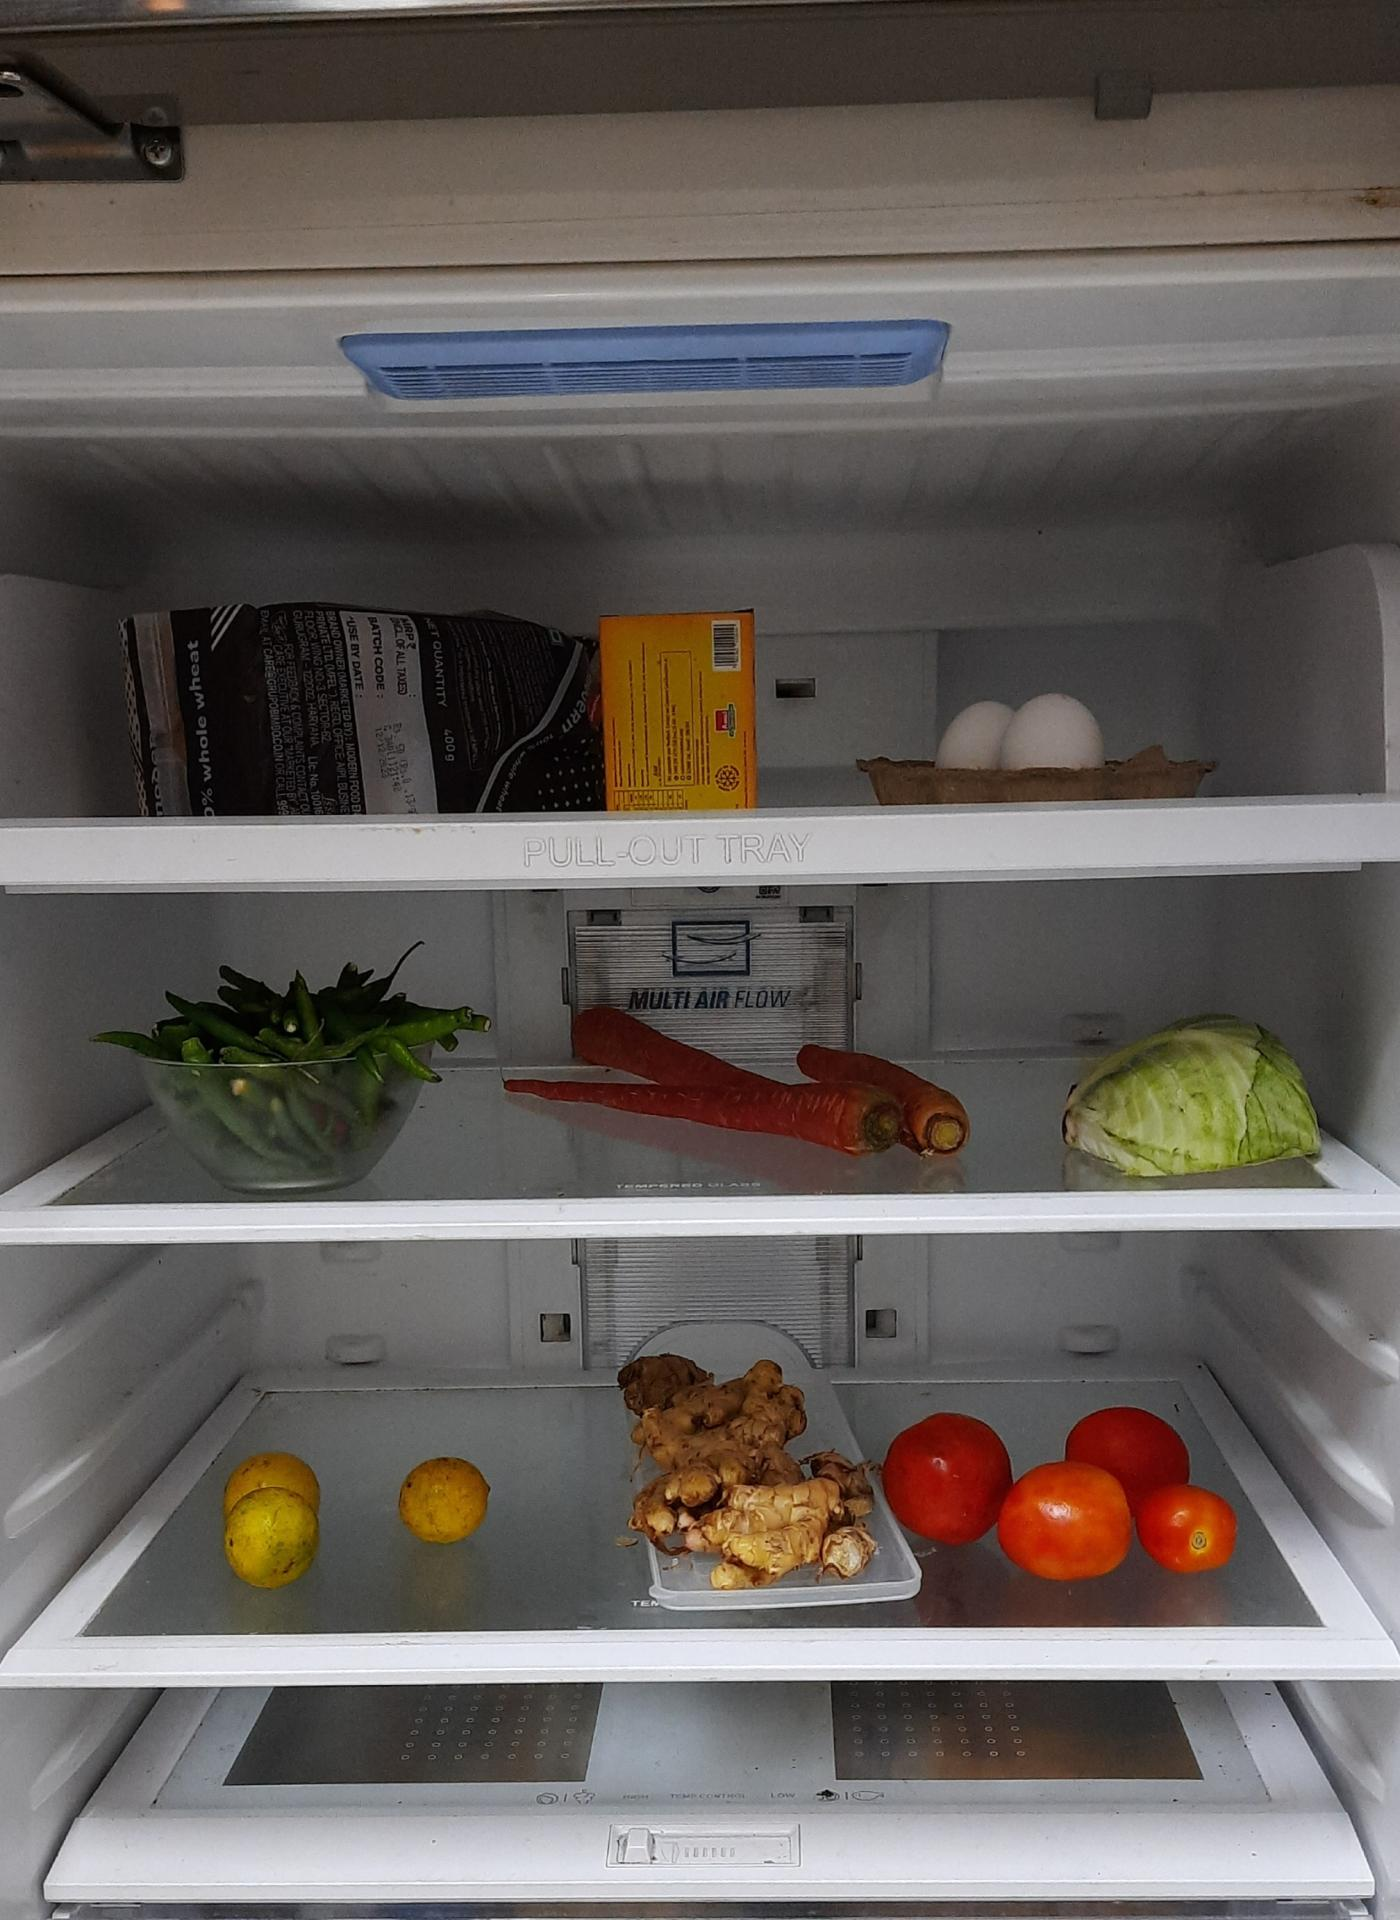bread: (112, 614, 757, 827)
cabbage: (1060, 1020, 1325, 1175)
carrots: (522, 1008, 972, 1158)
chillies: (101, 961, 501, 1167)
egg: (939, 689, 1106, 783)
ginger: (632, 1337, 889, 1576)
lemon: (225, 1446, 331, 1586), (391, 1446, 498, 1547)
tomato: (890, 1409, 1254, 1579)
